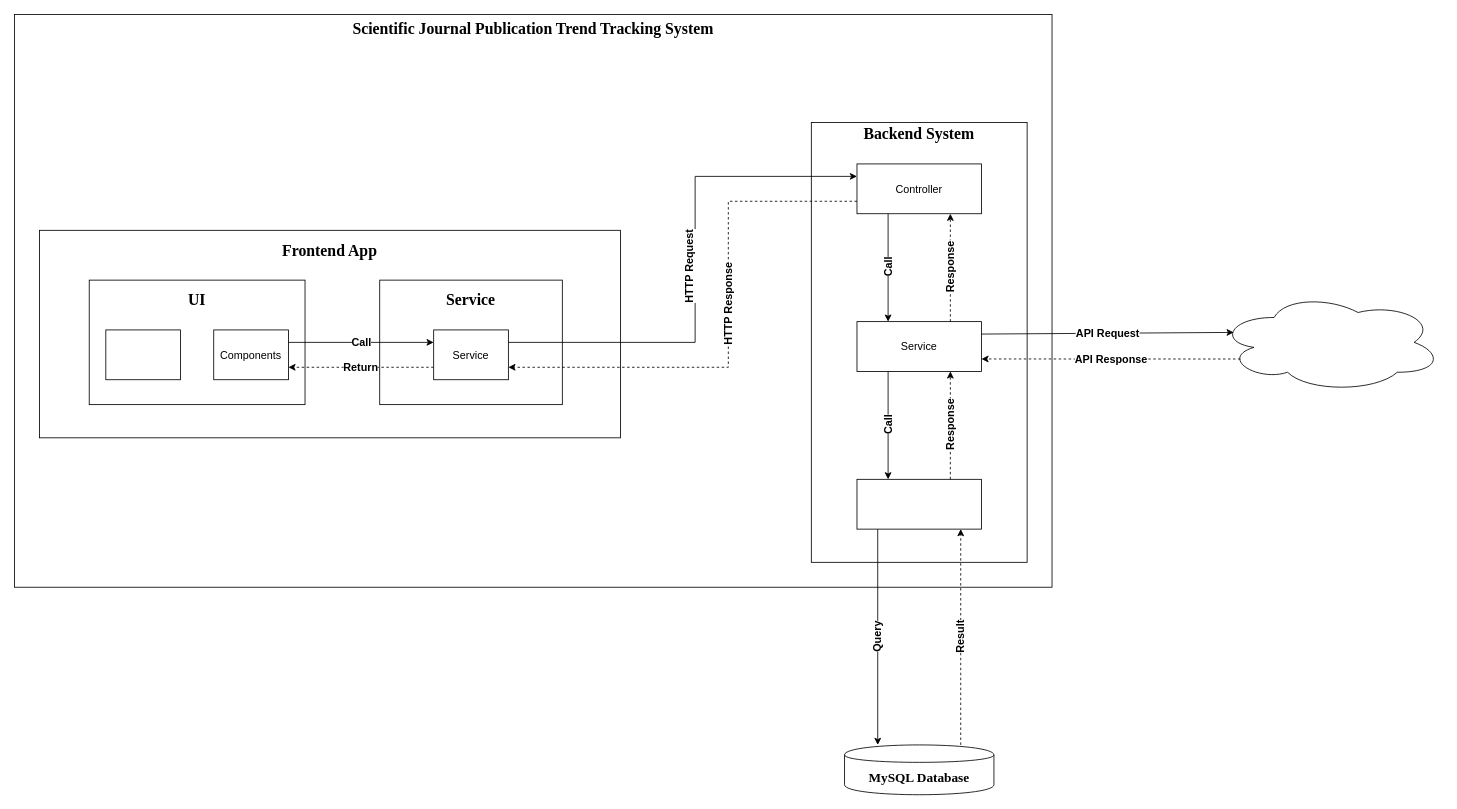
The diagram is 1457 pixels wide and 809 high, and some of its shapes have lost their labels. The box of each missing label's shape, as (x1, y1, x2, y2) in pixels:
Academic APIs: (1217, 292, 1442, 392)
Pages: (105, 329, 181, 380)
Repository: (856, 478, 981, 529)
